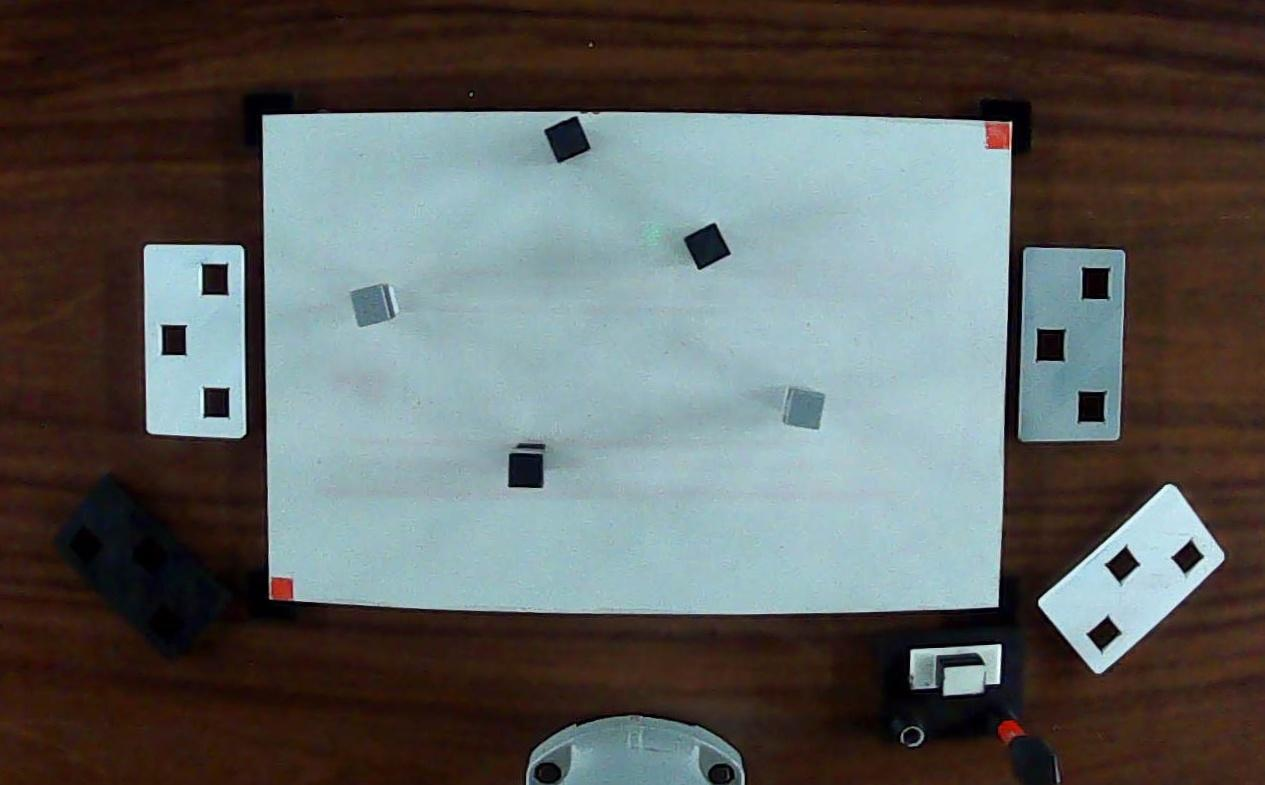pecaCinza: (346, 280, 404, 330), (778, 382, 829, 434)
pecaPreta: (541, 112, 596, 168), (682, 220, 736, 273), (502, 438, 552, 491)
